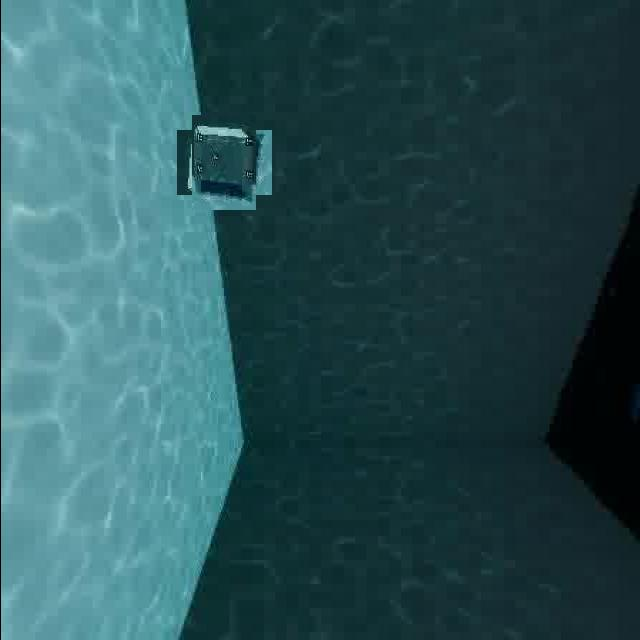Docking Station: (184, 122, 264, 202)
